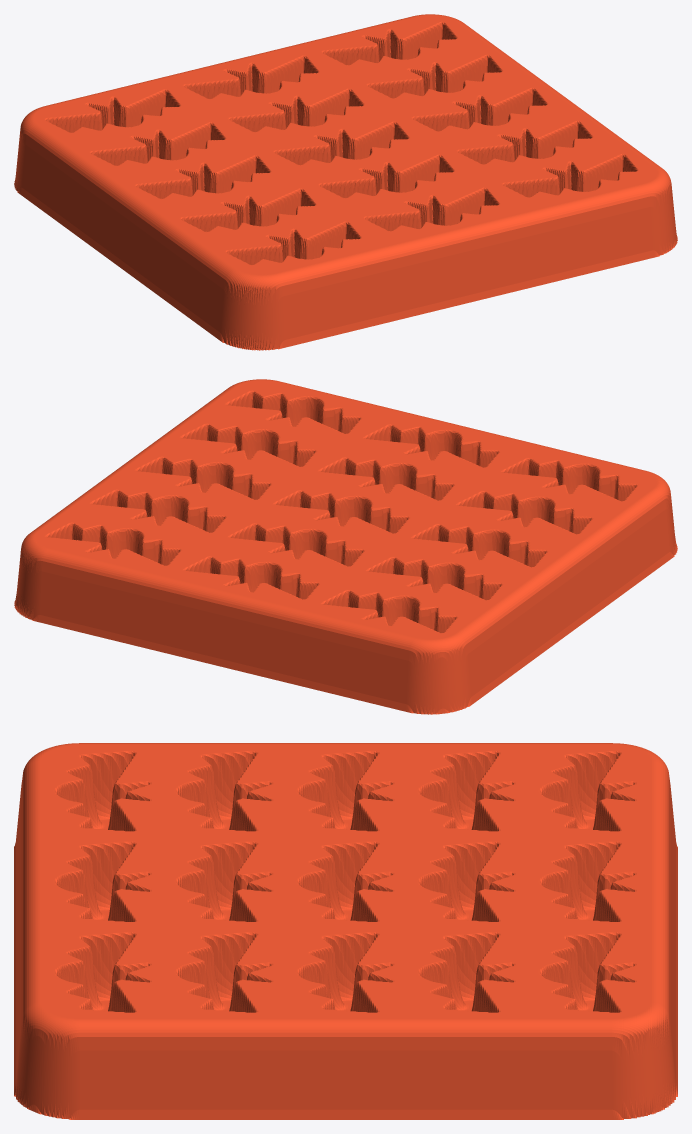
Rendered from mold.glb.
3 views of the same model, one above another, from view 1: azimuth 30°, elevation 25°; view 2: azimuth 150°, elevation 25°; view 3: azimuth 270°, elevation 25° (orthographic). The views are drawn at different scales.
Visible parts, largest first — view 1: geometry_0; view 2: geometry_0; view 3: geometry_0.
Part boxes in pixels (x1,y1,x2,y2): geometry_0: (14, 14, 677, 350); geometry_0: (14, 379, 677, 714); geometry_0: (14, 743, 677, 1119).
Size of the model in its own units: 0.0966 by 0.0136 by 0.0915.
